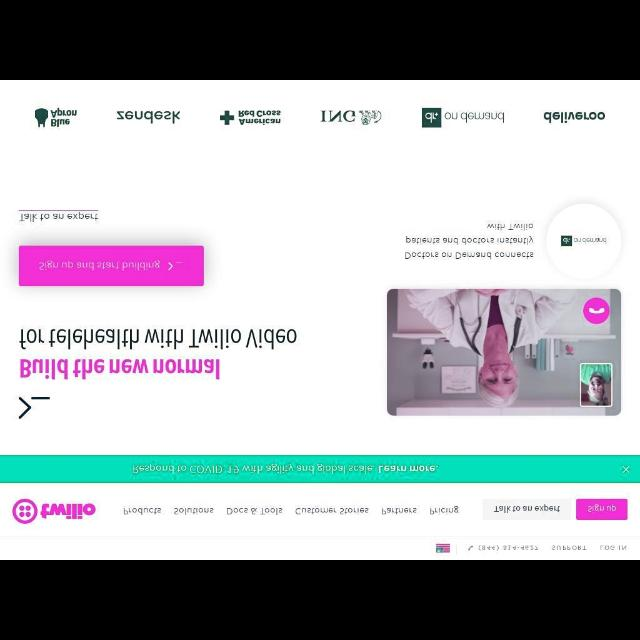icon: (468, 545, 472, 551)
iframe: (1, 457, 640, 481)
image: (388, 291, 620, 415), (13, 500, 95, 522), (422, 109, 504, 127), (220, 109, 280, 125), (321, 108, 381, 124), (35, 107, 77, 129), (115, 108, 178, 122), (545, 110, 605, 122), (437, 544, 451, 552)
text: (19, 328, 299, 349), (402, 221, 534, 259), (19, 356, 222, 378), (20, 212, 100, 222), (296, 506, 368, 516), (494, 503, 560, 513), (227, 506, 283, 514), (478, 545, 538, 551), (174, 508, 214, 514), (430, 506, 460, 514), (124, 508, 160, 514), (552, 544, 588, 550), (382, 508, 416, 514), (601, 546, 627, 550)
textbutton: (19, 247, 204, 286), (578, 498, 628, 520)
toolbar: (2, 489, 640, 525)
